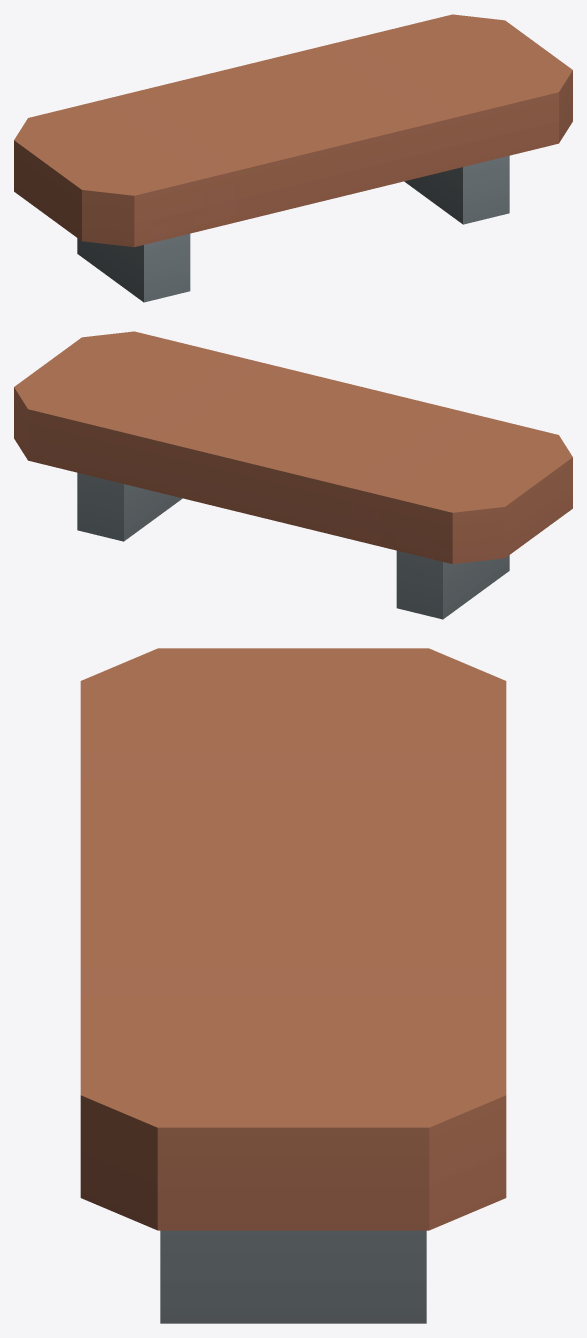
The model's file is kk_bench.glb.
3 views of the same model, one above another, from view 1: azimuth 30°, elevation 25°; view 2: azimuth 150°, elevation 25°; view 3: azimuth 270°, elevation 25° (orthographic). The views are drawn at different scales.
Parts seen in each view (by area): view 1: bench; view 2: bench; view 3: bench.
Part boxes in pixels (box(x1,y1,x2,y2)): bench: box(14, 14, 572, 302); bench: box(14, 331, 572, 619); bench: box(80, 648, 506, 1323).
Size of the model in its own units: 0.4 by 0.1 by 0.15.
Materials: 1 (1 with a texture image).
